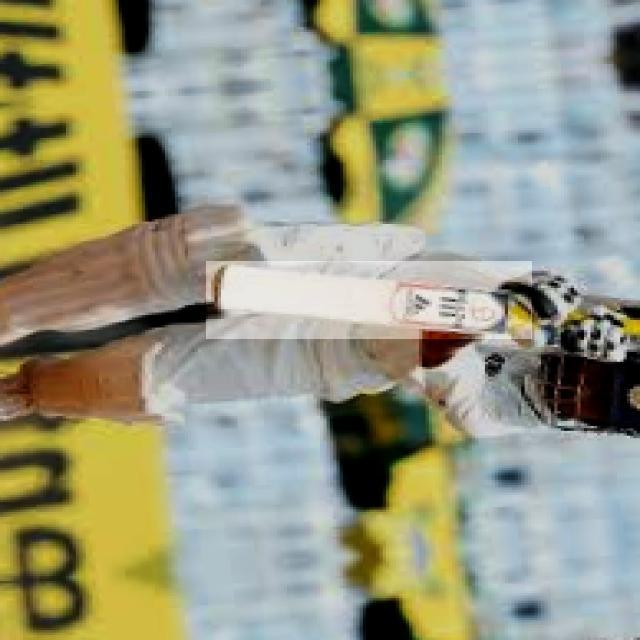bat: (205, 261, 530, 337)
toe: (211, 263, 227, 310)
